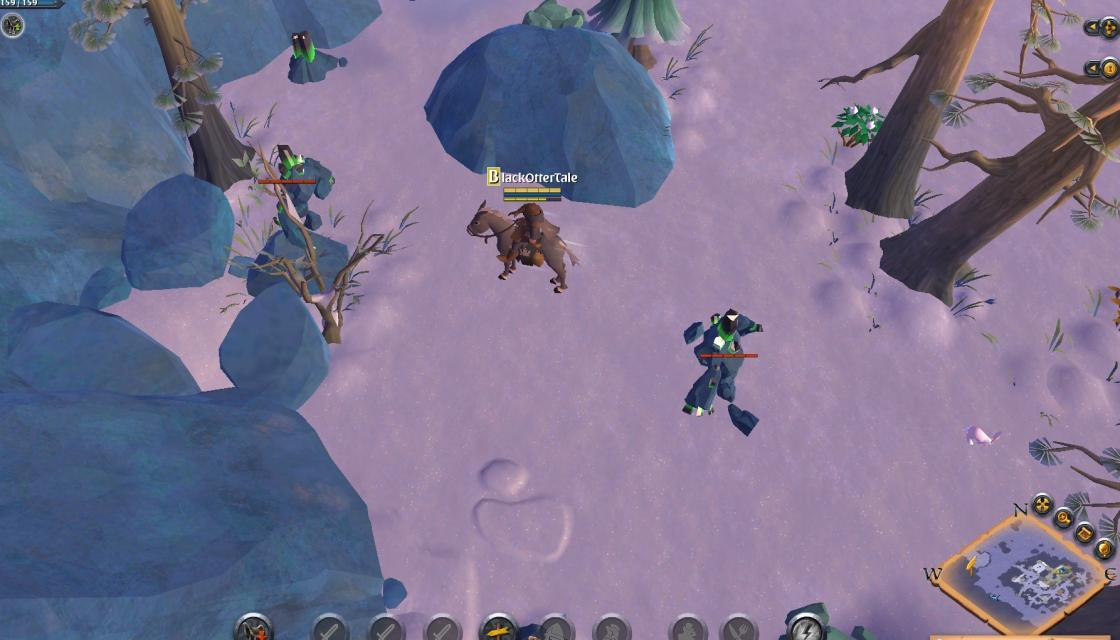sandstone: (764, 598, 884, 640), (509, 0, 590, 37)
tinore: (281, 26, 345, 88)
